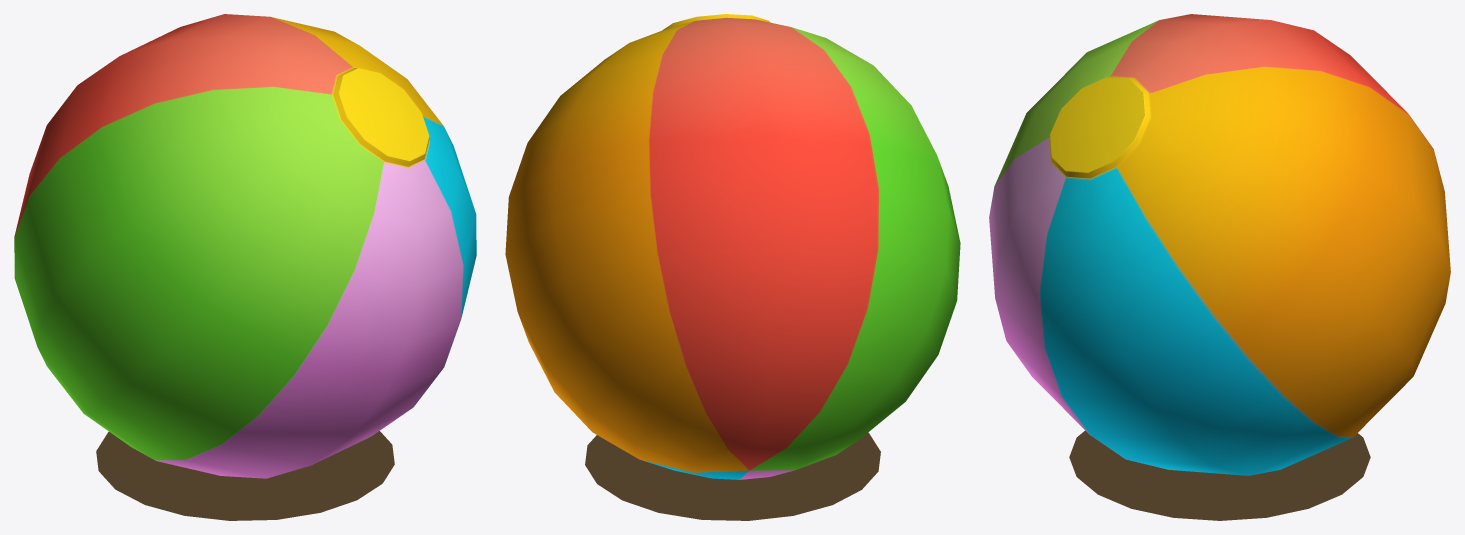
The model's file is BeachBall01.fbx.
3 views of the same model, side by side, from view 1: azimuth 30°, elevation 25°; view 2: azimuth 150°, elevation 25°; view 3: azimuth 270°, elevation 25° (orthographic).
Visible parts, largest first — view 1: BeachBall01; view 2: BeachBall01; view 3: BeachBall01.
Part boxes in pixels (<box>): BeachBall01: <box>14,14,476,520</box>; BeachBall01: <box>505,14,960,520</box>; BeachBall01: <box>989,14,1450,520</box>.
Size of the model in its own units: 102 by 103 by 102.
